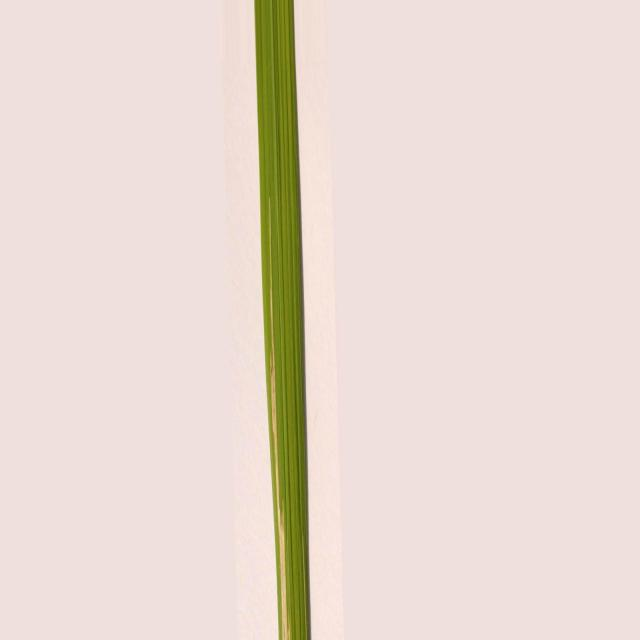Bacterial_Leaf_Blight: (270, 354, 288, 639)
